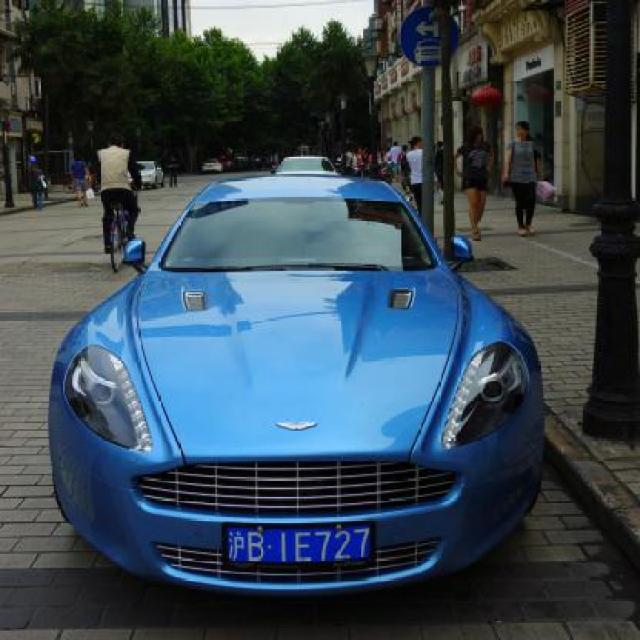License-Plates: (222, 519, 376, 571)
